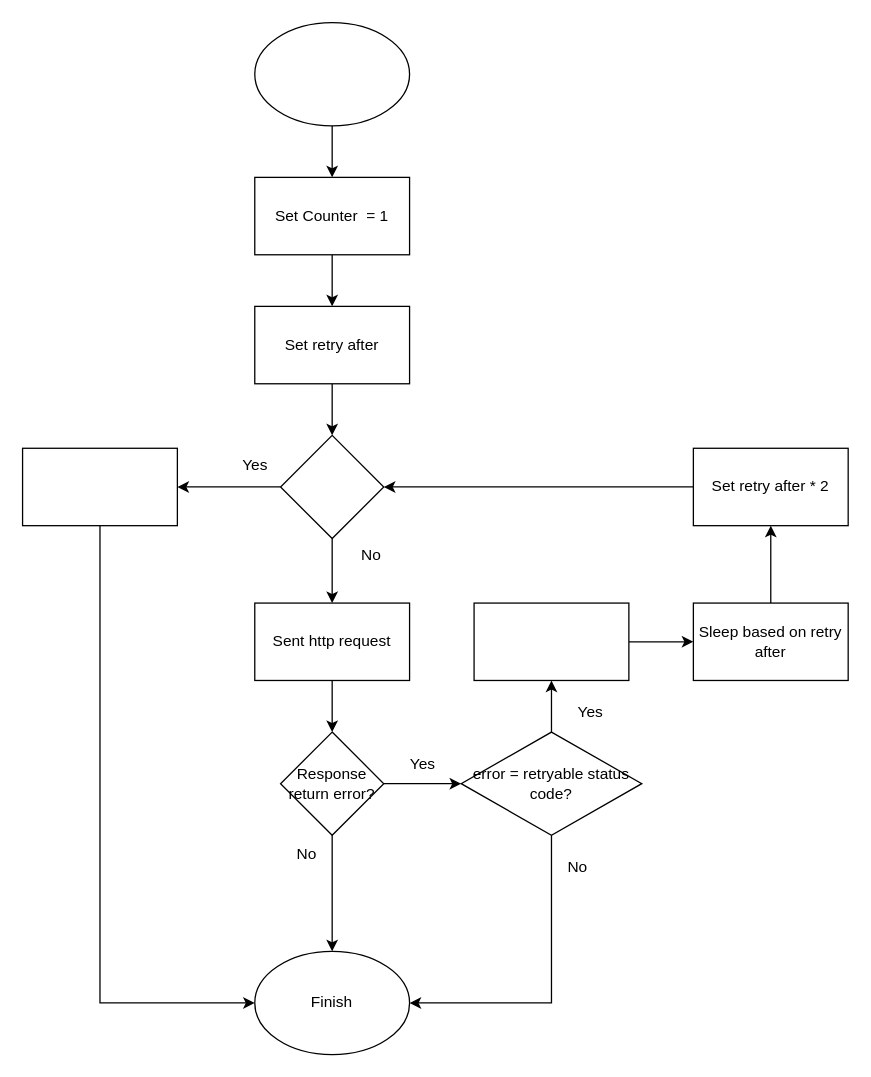
This 871x1077 diagram has some shape labels left out. Here are the shapes that lost their labels. From the top down, the box of each, then its label:
(253, 21, 410, 126): Start
(21, 447, 177, 526): Set error as max retry reached
(279, 434, 384, 539): counter > 3?
(473, 602, 629, 680): counter = counter + 1
